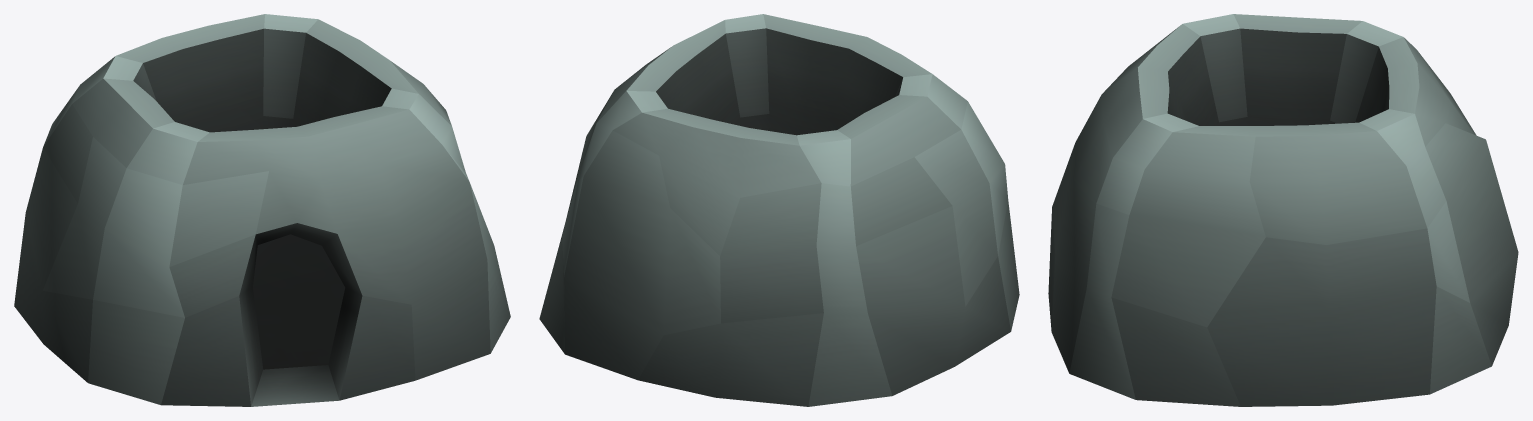
Rendered from orc_oven.fbx.
3 views of the same model, side by side, from view 1: azimuth 30°, elevation 25°; view 2: azimuth 150°, elevation 25°; view 3: azimuth 270°, elevation 25° (orthographic). The views are drawn at different scales.
Visible parts, largest first — view 1: orc_oven; view 2: orc_oven; view 3: orc_oven.
Part boxes in pixels (box(x1,y1,x2,y2)): orc_oven: box(14, 14, 510, 406); orc_oven: box(539, 14, 1019, 406); orc_oven: box(1048, 14, 1518, 406).
Bounding box in the file's own units: 491 × 269 × 493.
